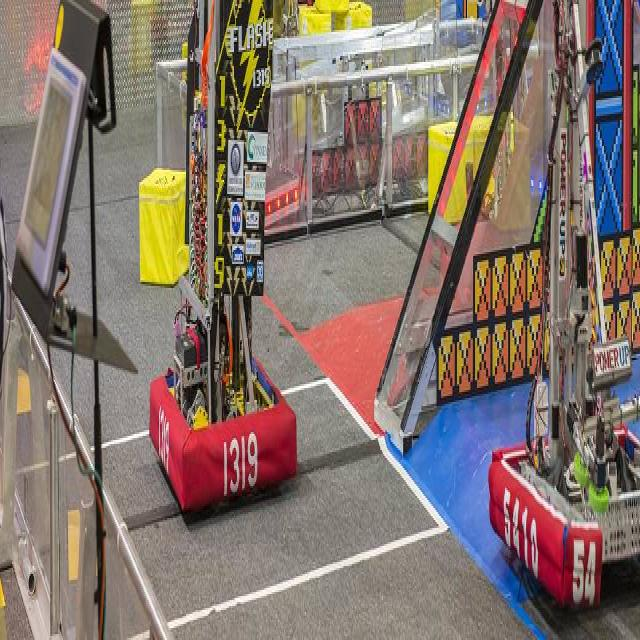robot: (488, 16, 640, 616), (148, 2, 299, 520)
